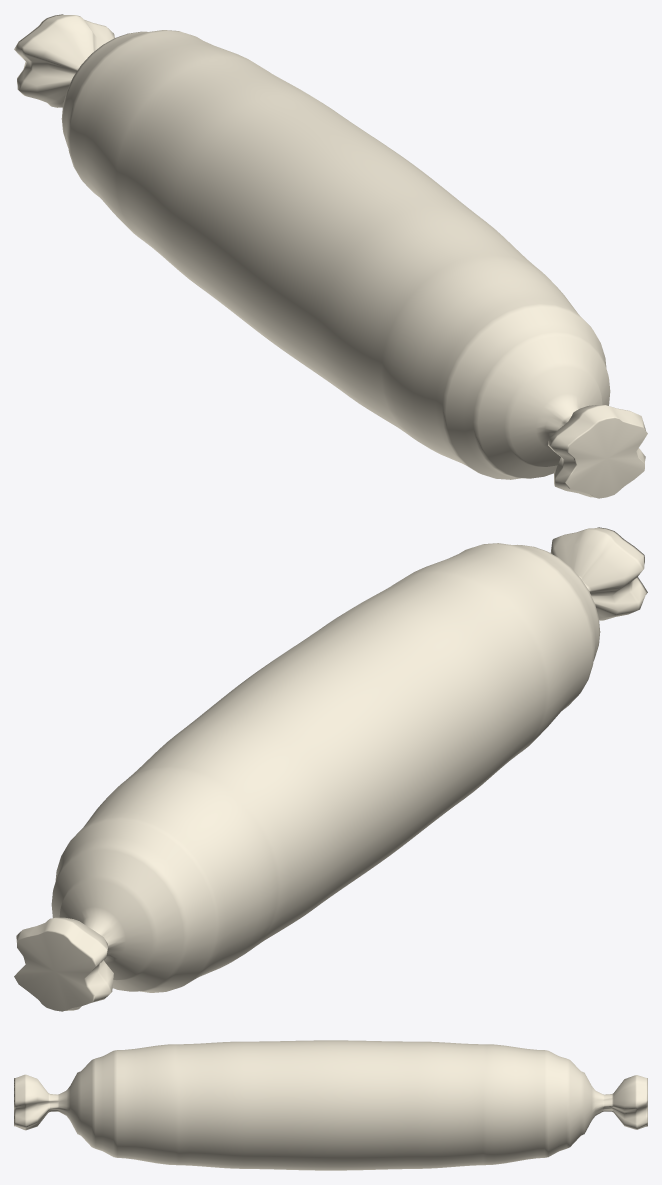
File: sausage.glb
3 views of the same model, one above another, from view 1: azimuth 30°, elevation 25°; view 2: azimuth 150°, elevation 25°; view 3: azimuth 270°, elevation 25° (orthographic). The views are drawn at different scales.
Visible parts, largest first — view 1: Plump Weisswurst / +Z mission direction; view 2: Plump Weisswurst / +Z mission direction; view 3: Plump Weisswurst / +Z mission direction.
Boxes of the visible parts, bbox=[...] form: Plump Weisswurst / +Z mission direction: bbox=[14, 14, 647, 498]; Plump Weisswurst / +Z mission direction: bbox=[14, 527, 647, 1011]; Plump Weisswurst / +Z mission direction: bbox=[14, 1040, 647, 1170].
Bounding box in the file's own units: 0.36 × 0.36 × 1.75.
